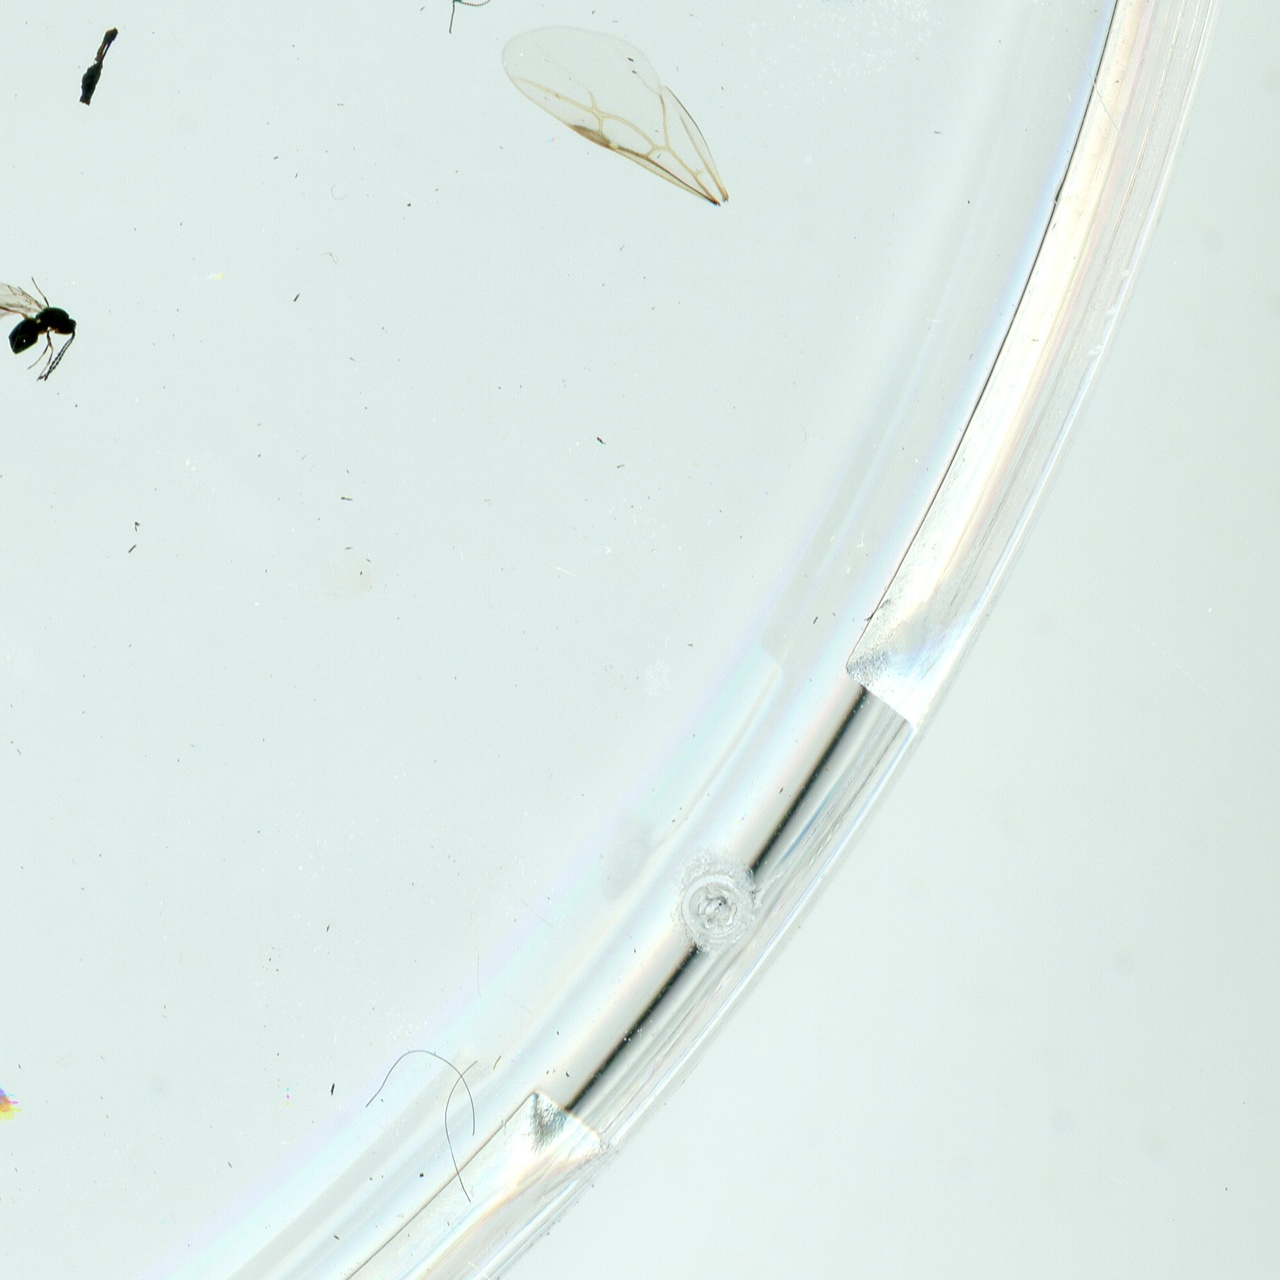arthropod: (0, 274, 81, 384), (415, 0, 492, 36), (801, 0, 917, 20)
